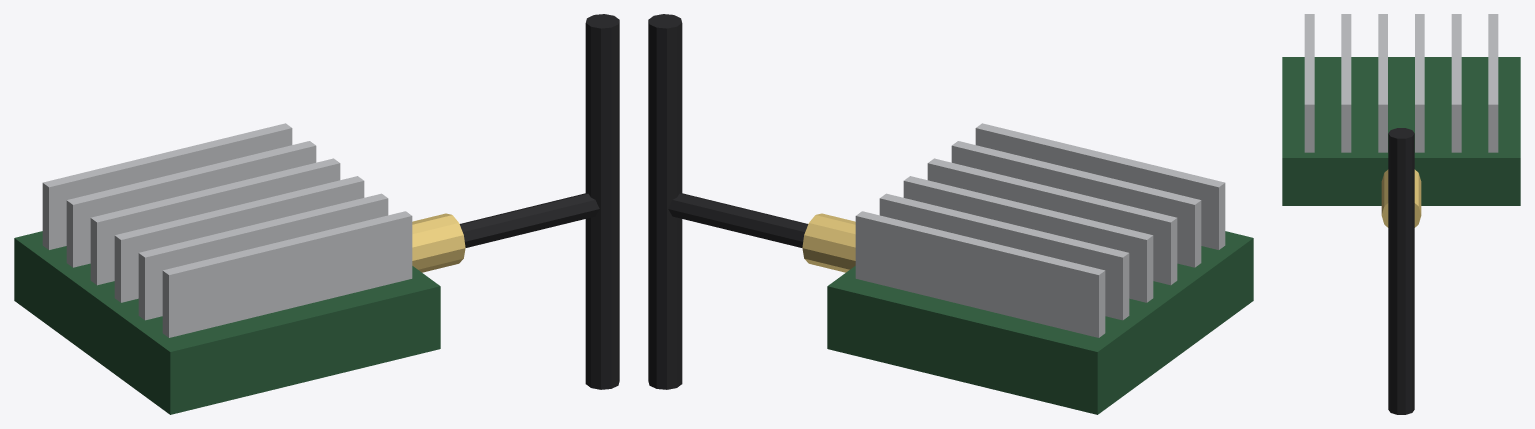
The model's file is Vtx_33_2000.glb.
The picture shows the model from 3 angles, left to right: view 1: azimuth 30°, elevation 25°; view 2: azimuth 150°, elevation 25°; view 3: azimuth 270°, elevation 25°; orthographic projection. The views are drawn at different scales.
Parts seen in each view (by area): view 1: Vtx_33_2000, Fin.006, Fin.007, Fin.011, Fin.008, Fin.009, Fin.010, LegA, LegB, Feed, SMA.002; view 2: Vtx_33_2000, Fin.011, Fin.010, Fin.006, Fin.009, Fin.007, Fin.008, LegA, LegB, Feed, SMA.002; view 3: Vtx_33_2000, LegA, LegB, Fin.006, Fin.007, Fin.010, Fin.011, Fin.008, Fin.009, SMA.002.
Part boxes in pixels (x1=…): Vtx_33_2000: x1=14, y1=231, x2=440, y2=414; Fin.006: x1=162, y1=211, x2=412, y2=337; Fin.007: x1=138, y1=193, x2=388, y2=320; Fin.011: x1=42, y1=123, x2=292, y2=249; Fin.008: x1=114, y1=176, x2=364, y2=302; Fin.009: x1=90, y1=158, x2=340, y2=285; Fin.010: x1=66, y1=141, x2=316, y2=267; LegA: x1=585, y1=14, x2=619, y2=209; LegB: x1=585, y1=201, x2=619, y2=389; Feed: x1=459, y1=193, x2=599, y2=247; SMA.002: x1=412, y1=213, x2=465, y2=272; Vtx_33_2000: x1=827, y1=231, x2=1253, y2=414; Fin.011: x1=855, y1=211, x2=1105, y2=337; Fin.010: x1=879, y1=193, x2=1129, y2=320; Fin.006: x1=975, y1=123, x2=1225, y2=249; Fin.009: x1=903, y1=176, x2=1153, y2=302; Fin.007: x1=951, y1=141, x2=1201, y2=267; Fin.008: x1=927, y1=158, x2=1177, y2=285; LegA: x1=648, y1=14, x2=682, y2=209; LegB: x1=648, y1=201, x2=682, y2=389; Feed: x1=668, y1=193, x2=808, y2=247; SMA.002: x1=802, y1=213, x2=855, y2=272; Vtx_33_2000: x1=1282, y1=57, x2=1520, y2=205; LegA: x1=1388, y1=128, x2=1414, y2=276; LegB: x1=1388, y1=272, x2=1414, y2=414; Fin.006: x1=1304, y1=14, x2=1314, y2=152; Fin.007: x1=1341, y1=14, x2=1351, y2=152; Fin.010: x1=1451, y1=14, x2=1461, y2=152; Fin.011: x1=1488, y1=14, x2=1498, y2=152; Fin.008: x1=1378, y1=14, x2=1387, y2=152; Fin.009: x1=1415, y1=14, x2=1424, y2=152; SMA.002: x1=1381, y1=169, x2=1421, y2=227.
Size of the model in its own units: 0.0699 by 0.046 by 0.036.
